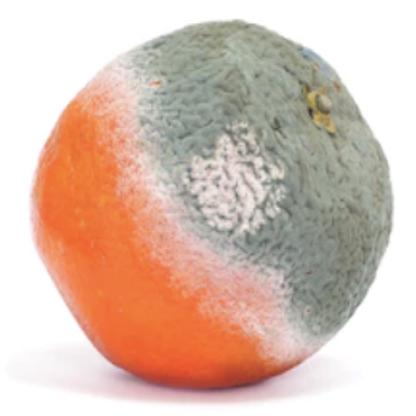rotten: (31, 20, 394, 391)
